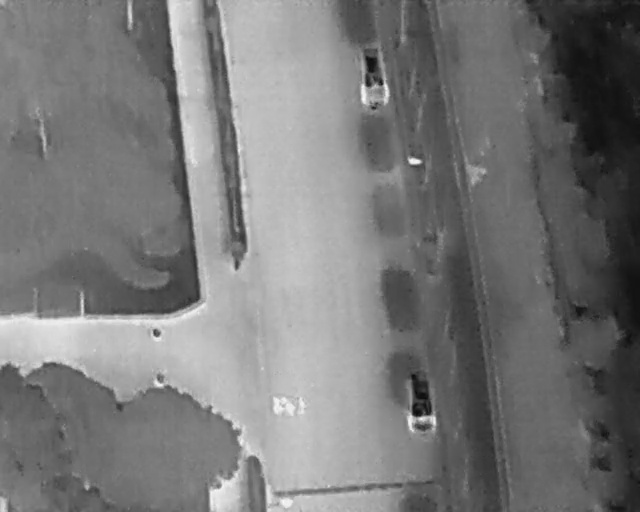Car: (404, 372, 439, 437), (356, 43, 390, 109)
Person: (295, 394, 307, 414), (286, 401, 297, 416), (272, 402, 283, 415), (273, 395, 279, 407), (280, 395, 288, 403)
